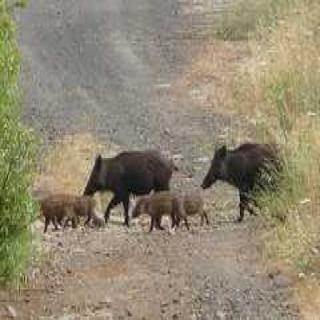Pig: (194, 130, 308, 224), (73, 139, 169, 210), (125, 186, 198, 243), (36, 182, 101, 238), (174, 186, 206, 226)
